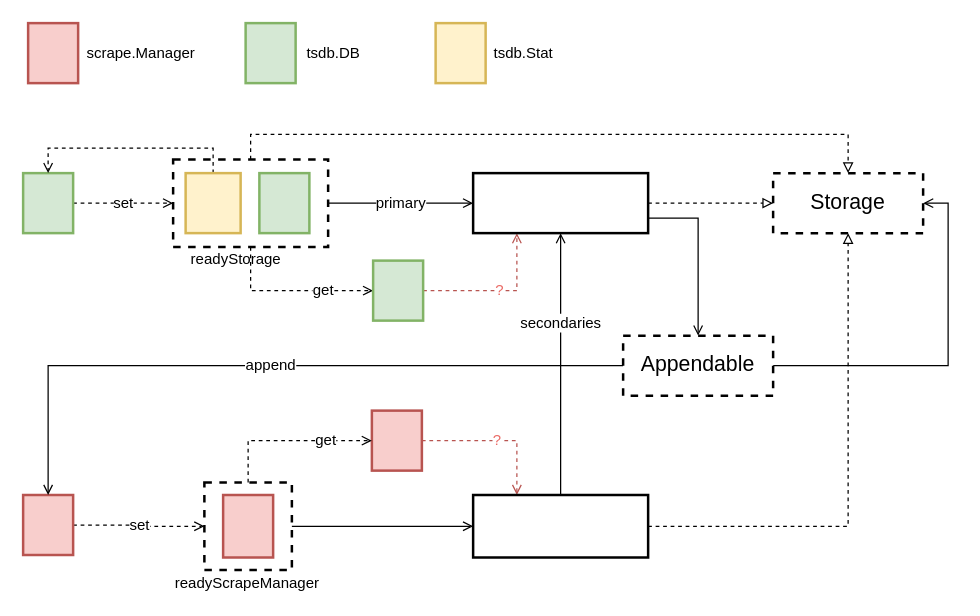
Some shapes in this 980 by 616 pixel diagram are drawn without their labels. The shapes that lost their labels are listed below. From the top down, each one's centre as x and y in pixels, then its label:
At [560,202]: "fanoutStorage".
At [560,525]: "remote.Storage".
